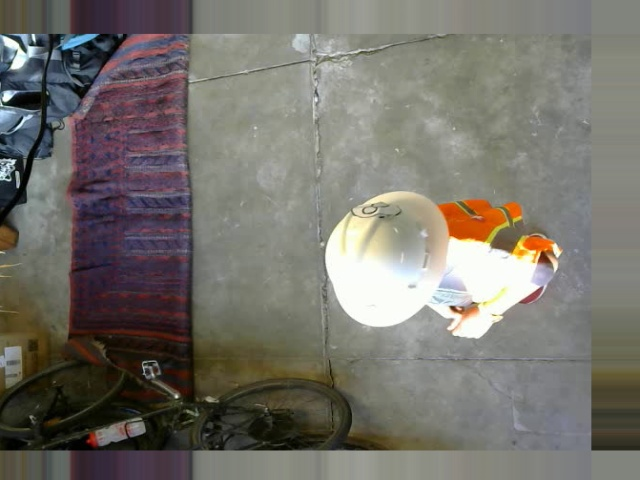eight: (349, 200, 403, 221)
